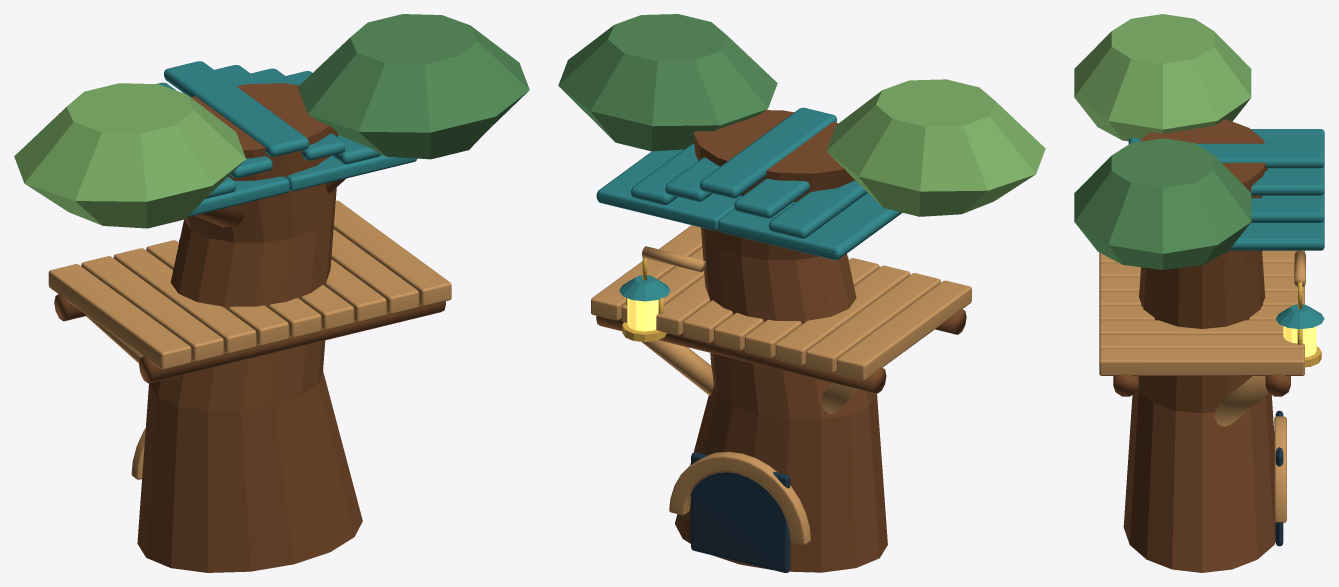
The model's file is treetop-burrow.glb.
3 renders of one model, left to right at view 1: azimuth 30°, elevation 25°; view 2: azimuth 150°, elevation 25°; view 3: azimuth 270°, elevation 25°, orthographic. The views are drawn at different scales.
Parts seen in each view (by area): view 1: Structure; view 2: Structure, AnimatedDetail; view 3: Structure, AnimatedDetail.
Boxes of the visible parts, x1,y1,x2,y2 form: Structure: [14, 14, 529, 572]; Structure: [558, 14, 1045, 572]; AnimatedDetail: [619, 258, 670, 342]; Structure: [1074, 14, 1324, 572]; AnimatedDetail: [1276, 282, 1324, 367].
Size of the model in its own units: 5.24 by 4.8 by 2.55.
